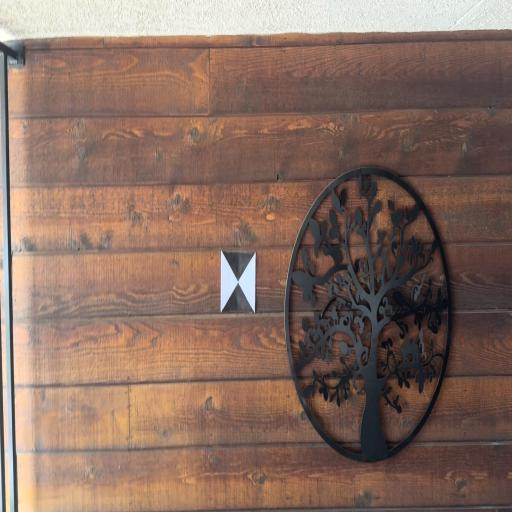target: (221, 251, 256, 312)
